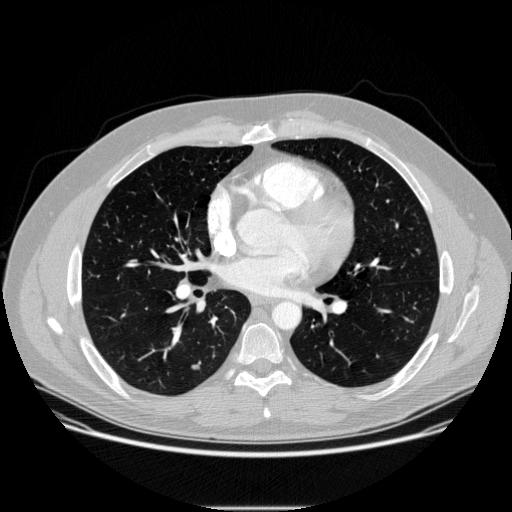nodule: (190, 362, 201, 373)
